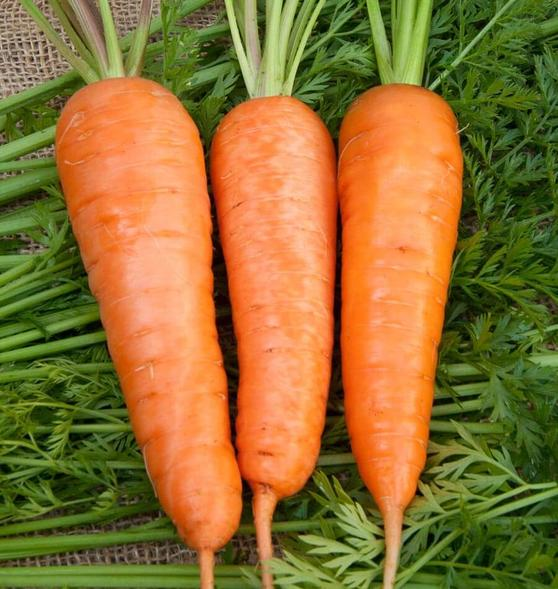carrot: (47, 82, 256, 560), (203, 94, 342, 502), (339, 84, 463, 536)
